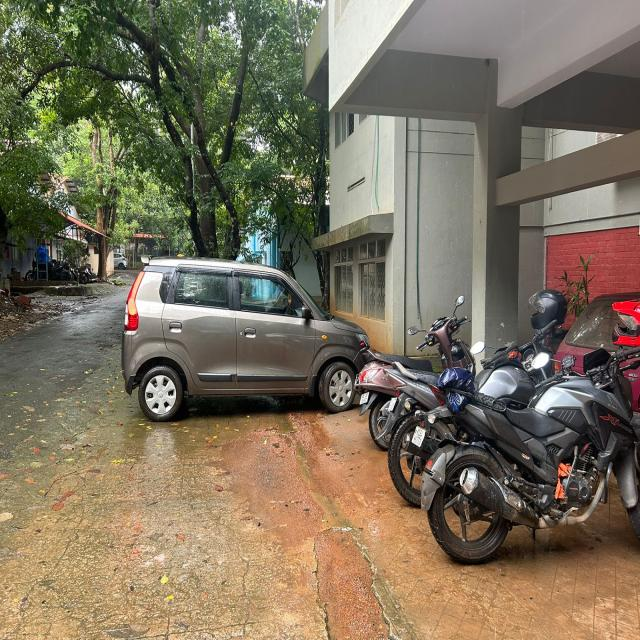car ahead at: (122, 264, 361, 426)
motorcycle ahead at: (422, 362, 640, 550)
